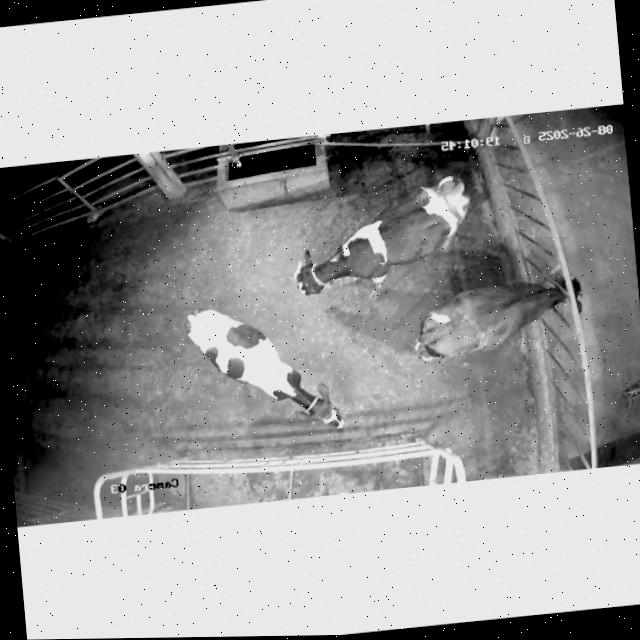stand: (270, 167, 486, 314), (172, 290, 358, 456)
